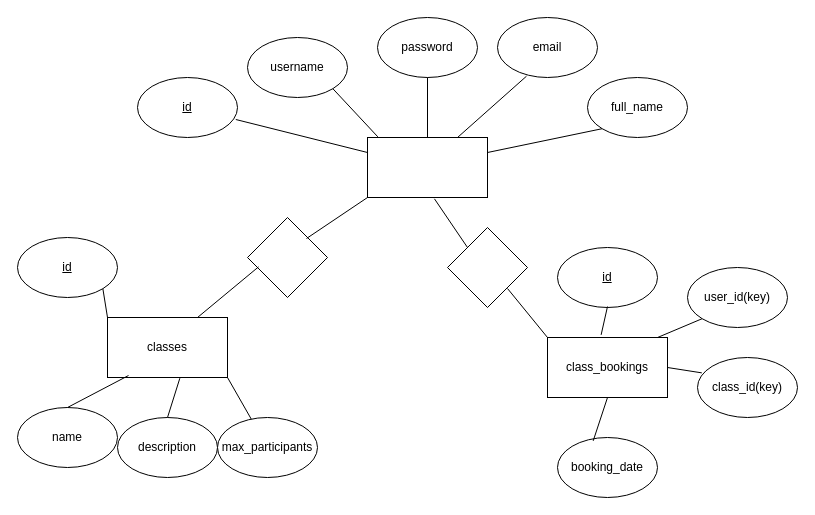
The diagram is 815 pixels wide and 515 high, and some of its shapes have lost their labels. The shapes that lost their labels are listed below. From the top down, each one's centre as x and y in pixels, then its label:
At (427,167): "users".
At (287,257): "add".
At (487,267): "view".
